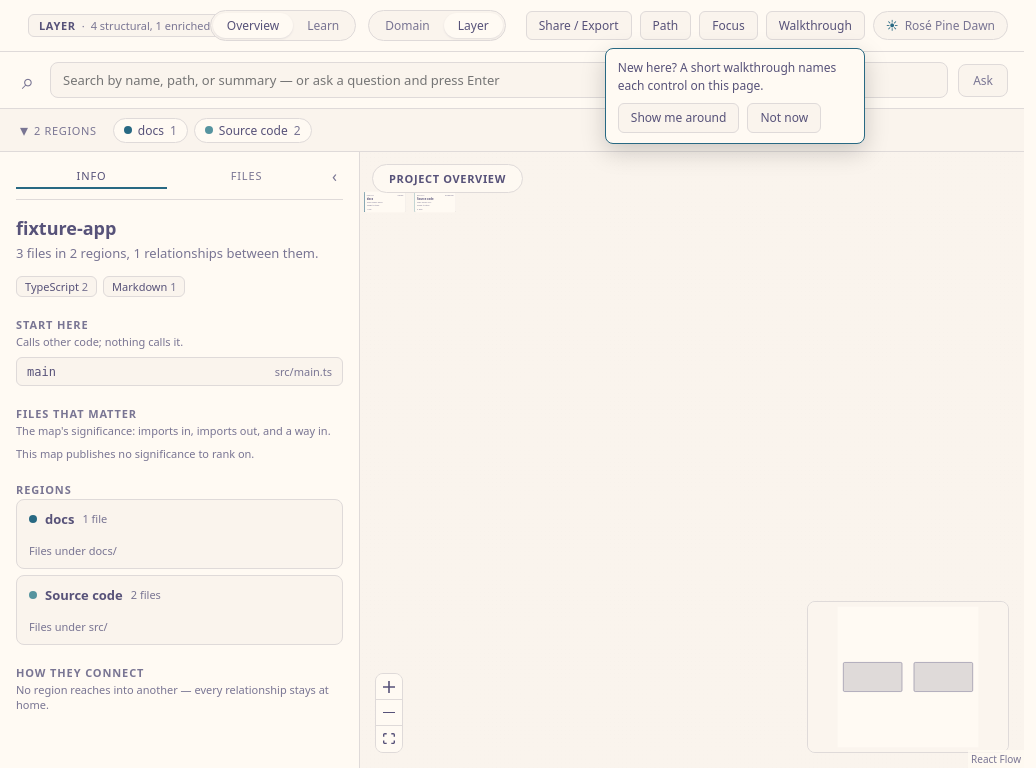
Test: asking the map a question › answers a question typed into the search bar
The width and height of the screenshot is (1036, 768).
In the search field named "Search nodes": (499, 80) [50,62,948,98], type "where does the program start?"
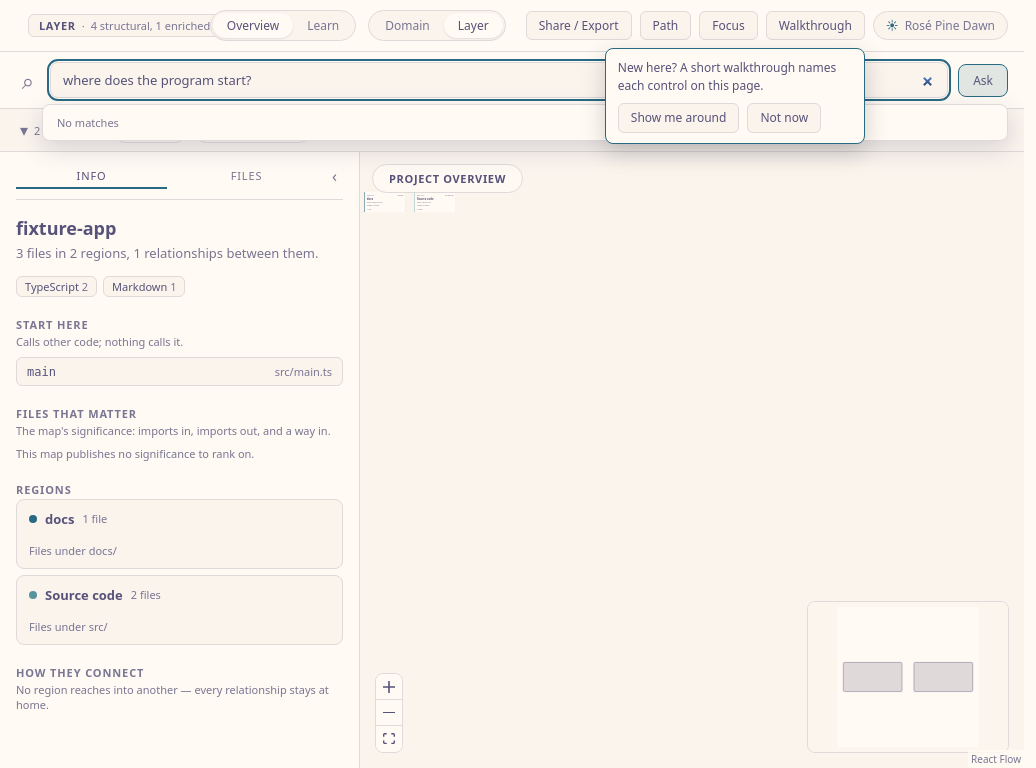
Click the button "Ask": click(983, 80) [958,64,1008,96]
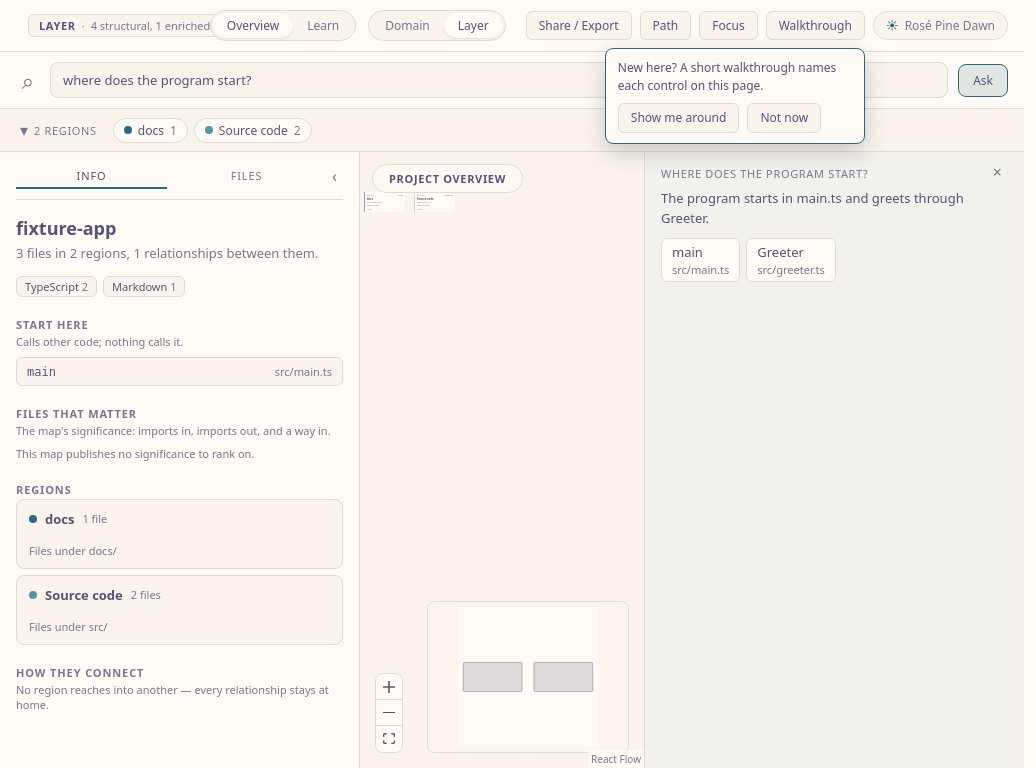
Expected: the text "The program starts in main.ts and greets through Greeter." is shown, [661,189,1008,228]
Expected: the button "main src/main.ts" below "where does the program start?" is shown, [661,238,740,282]
Expected: the button "Greeter src/greeter.ts" is shown, [746,238,836,282]
